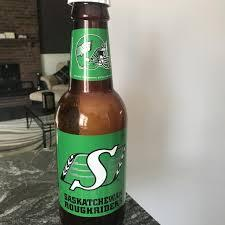Glass bottle: (44, 1, 140, 225)
